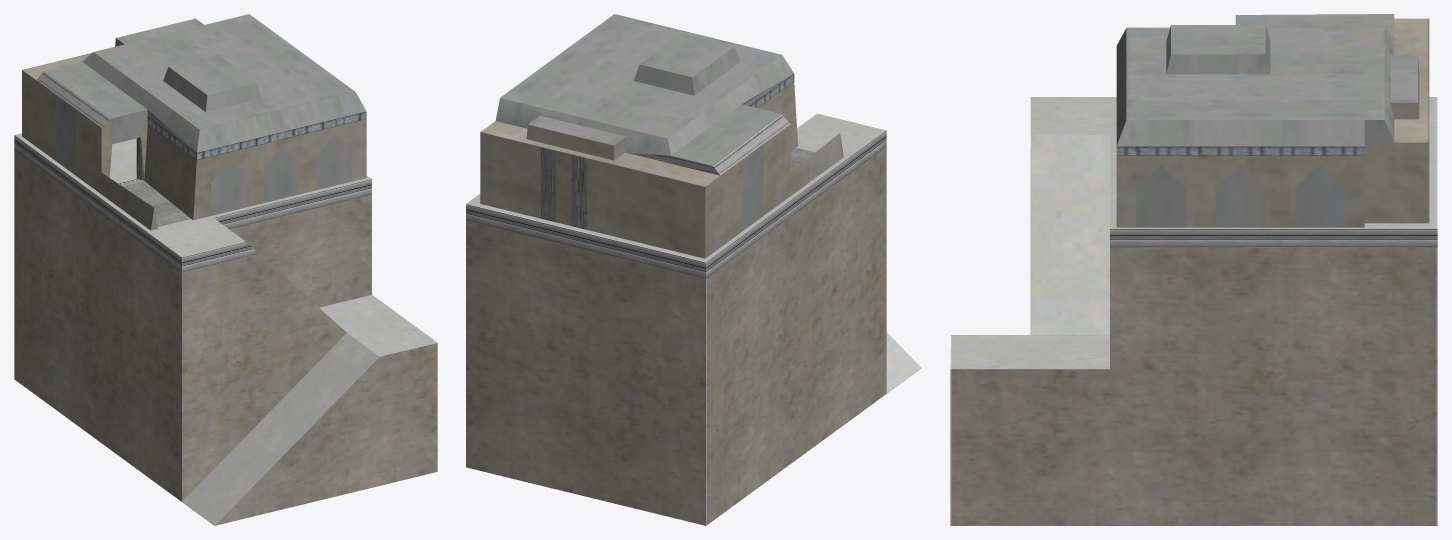
Rendered from ply_all_house_sm_s01_fp2_r0_exterior_mesh_l2.fbx.
3 renders of one model, left to right at view 1: azimuth 30°, elevation 25°; view 2: azimuth 150°, elevation 25°; view 3: azimuth 270°, elevation 25°, orthographic. The views are drawn at different scales.
Visible parts, largest first — view 1: mesh_node; view 2: mesh_node; view 3: mesh_node.
Part boxes in pixels (left/top/right/bottom): mesh_node: left=14, top=14, right=437, bottom=525; mesh_node: left=466, top=14, right=921, bottom=525; mesh_node: left=950, top=14, right=1437, bottom=525.
Size of the model in its own units: 15.74 by 23.24 by 24.55.
